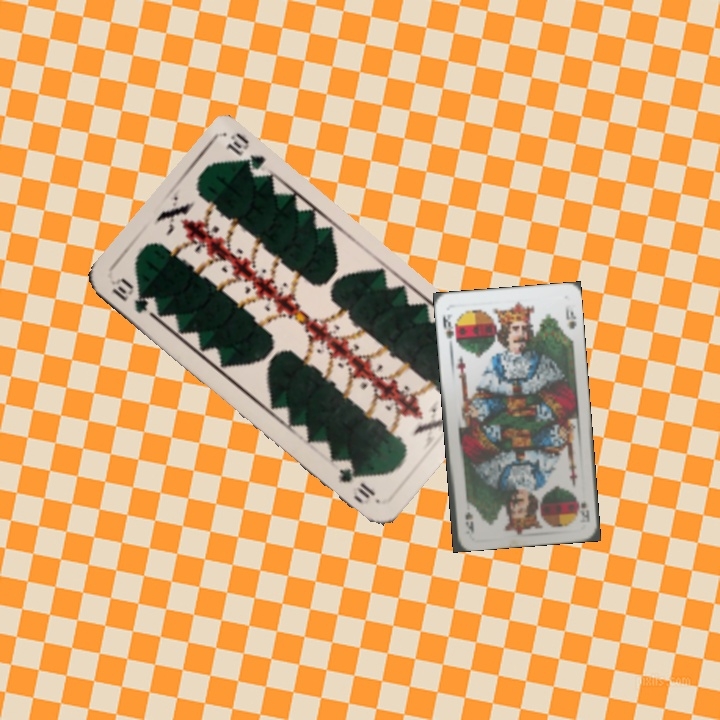G10: (107, 274, 151, 316)
SK: (439, 310, 459, 345), (573, 491, 592, 525)
